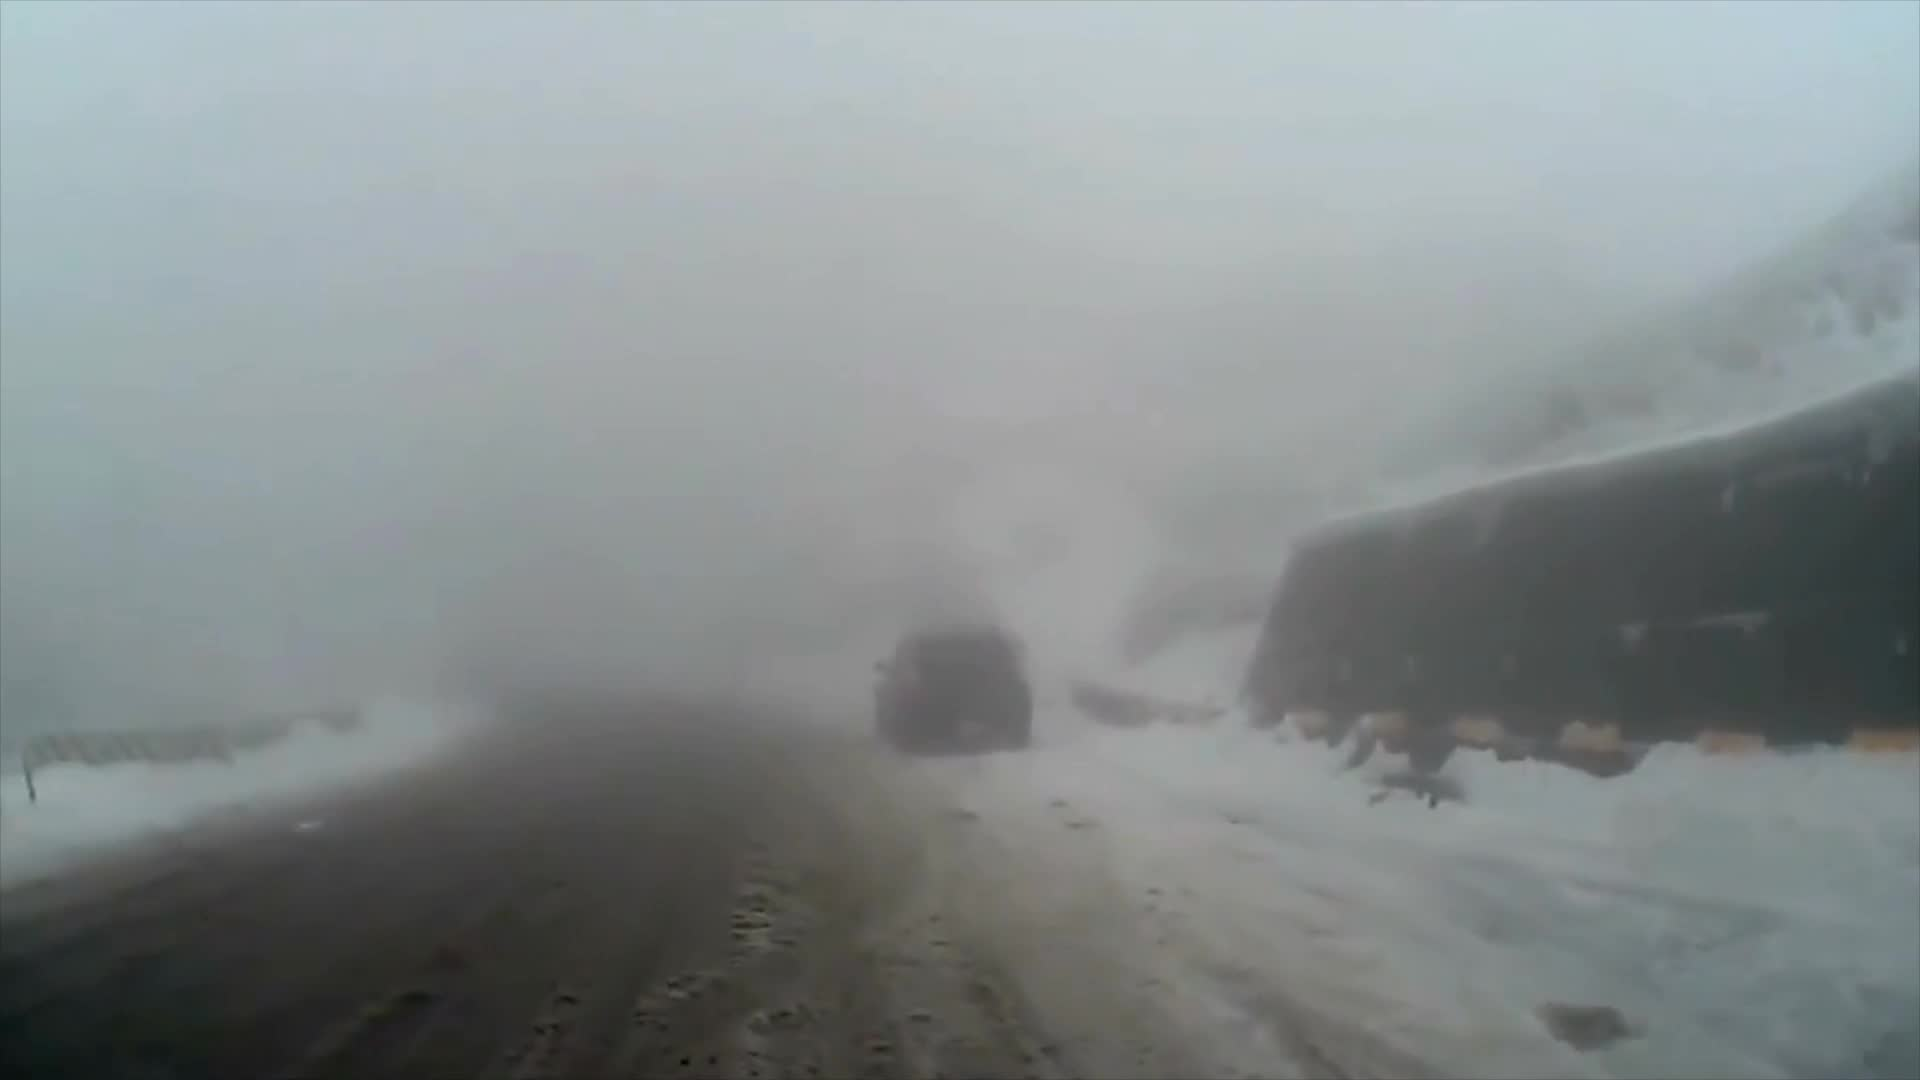vehicle: (866, 616, 1029, 754)
